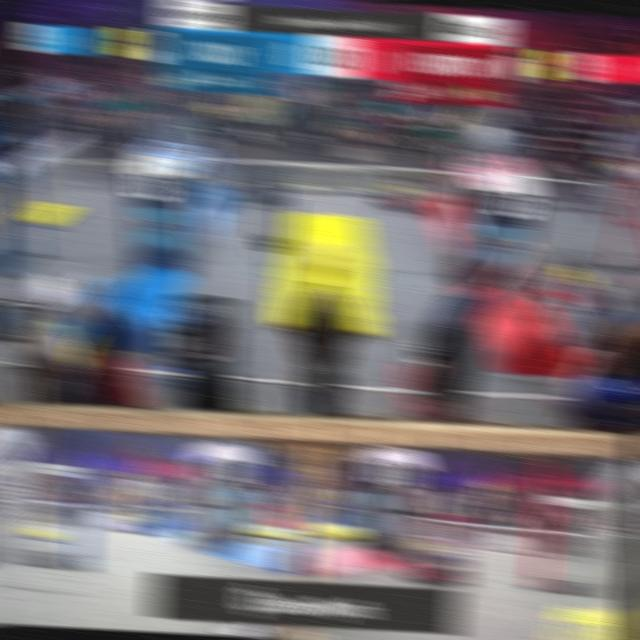ball_airborne: (616, 116, 633, 126)
ball_ground: (358, 323, 378, 338), (359, 312, 378, 322)
goal: (466, 128, 536, 170), (134, 121, 204, 153)
robot_blue: (154, 290, 243, 396), (239, 160, 290, 206), (116, 505, 161, 534)
robot_red: (396, 315, 461, 421), (397, 520, 474, 586), (538, 249, 605, 313), (378, 167, 427, 214)
